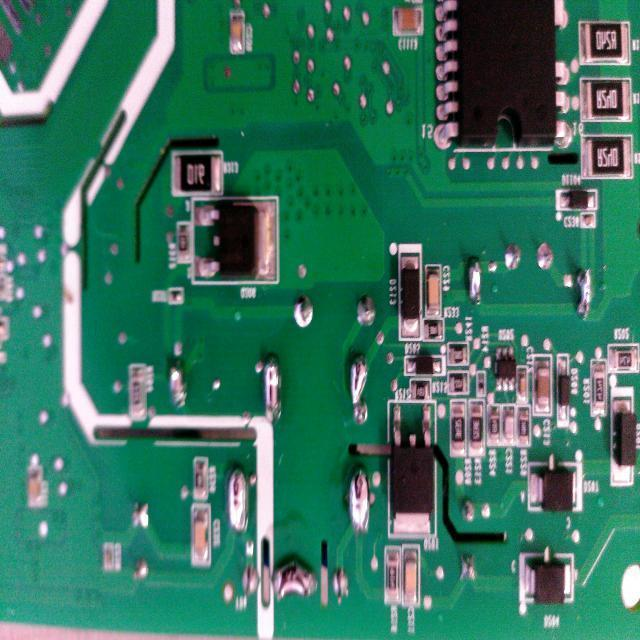Soldering shorted: (270, 553, 318, 606), (345, 348, 372, 428), (225, 458, 250, 542), (262, 344, 285, 432), (349, 456, 371, 540), (572, 260, 593, 329), (465, 254, 487, 312), (168, 354, 188, 407)
